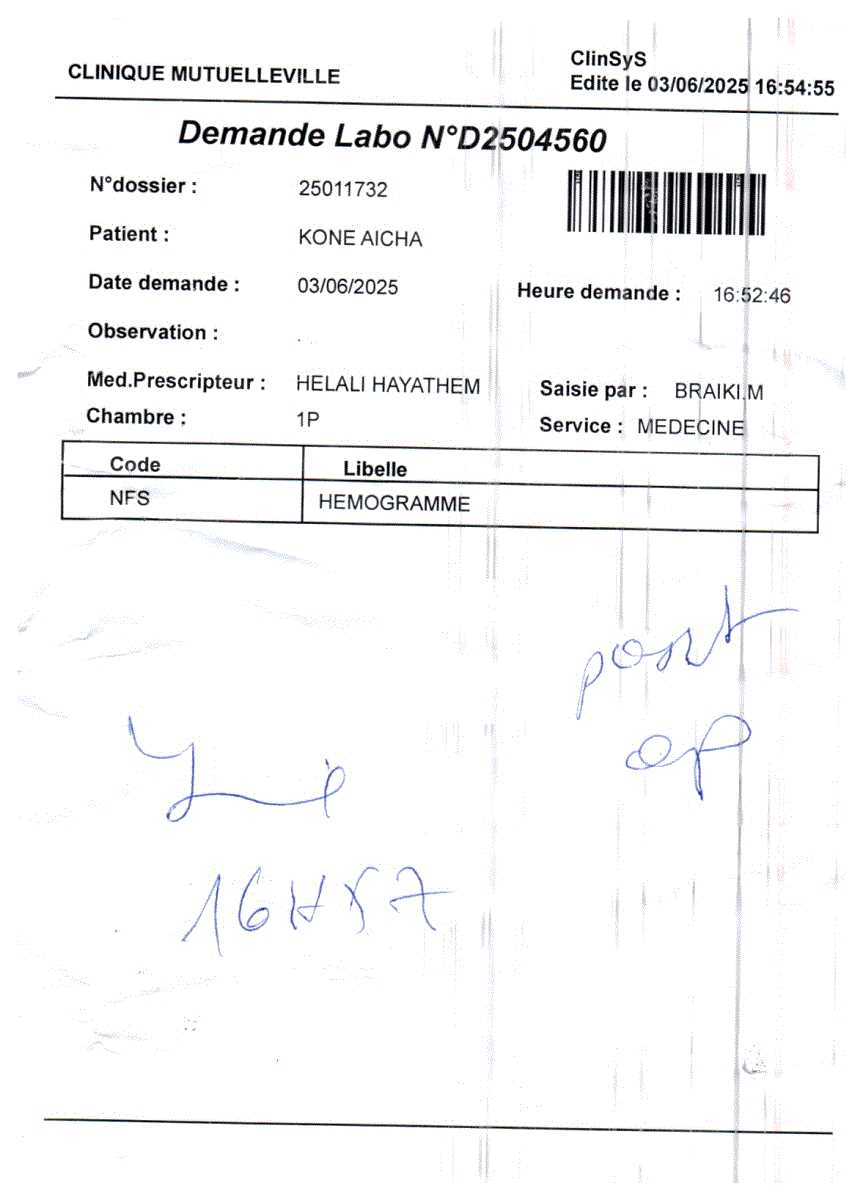zone_analyses: (58, 439, 769, 987)
zone_date: (292, 272, 432, 303)
zone_patient: (65, 211, 461, 268)
zone_prescripteur: (86, 358, 494, 403)
